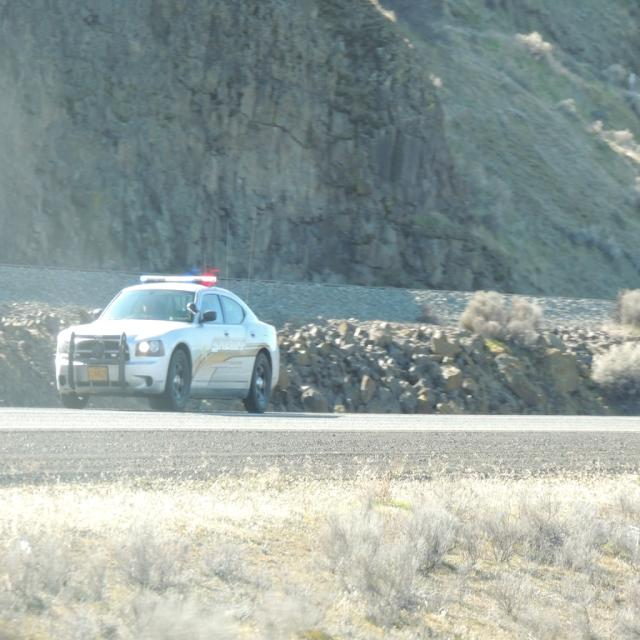car: (52, 268, 277, 412)
